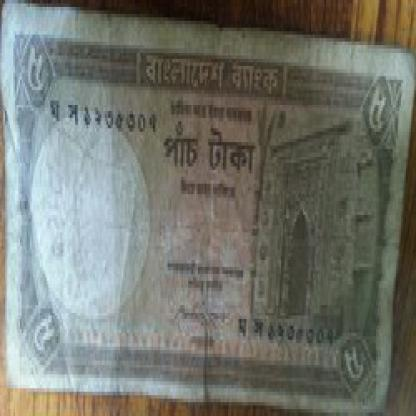Five Taka: (160, 114, 258, 188), (22, 38, 48, 104), (364, 83, 390, 146), (27, 312, 58, 364), (343, 336, 366, 395)
